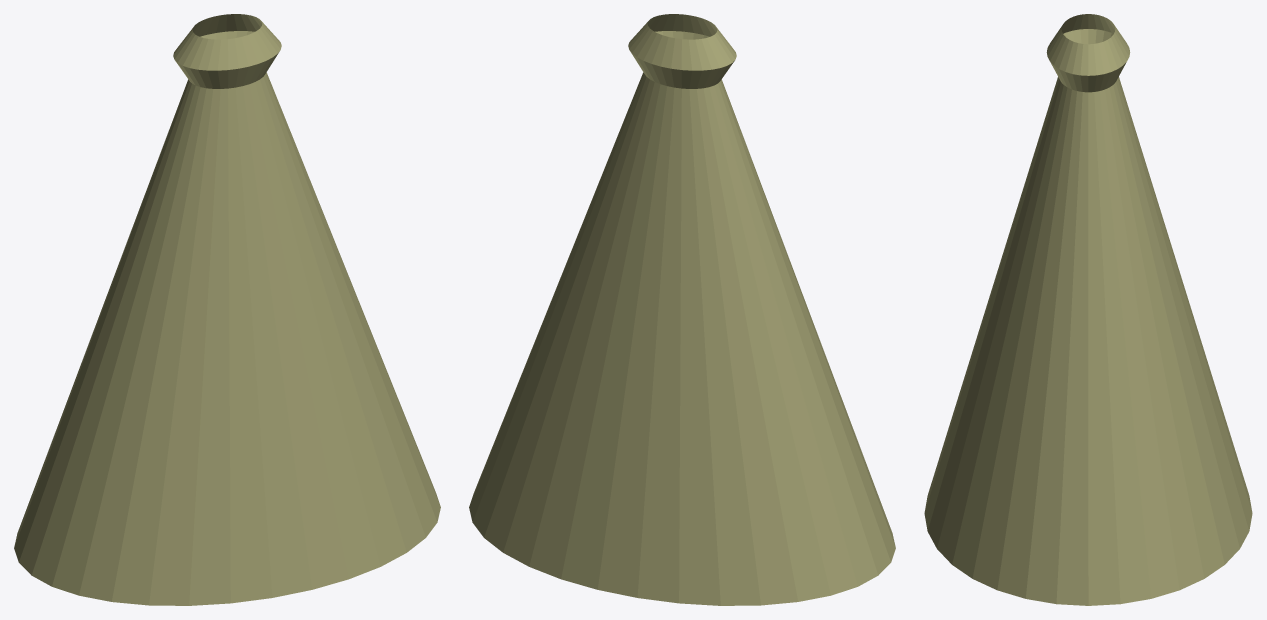
Rendered from mr-brass-detail.dae.
3 views of the same model, side by side, from view 1: azimuth 30°, elevation 25°; view 2: azimuth 150°, elevation 25°; view 3: azimuth 270°, elevation 25° (orthographic). The views are drawn at different scales.
Parts seen in each view (by area): view 1: Cylinder_005; view 2: Cylinder_005; view 3: Cylinder_005.
Part boxes in pixels (box(x1,y1,x2,y2)): Cylinder_005: box(14, 14, 440, 605); Cylinder_005: box(469, 14, 895, 605); Cylinder_005: box(924, 14, 1252, 605).
Size of the model in its own units: 0.5262 by 0.3946 by 0.643.
